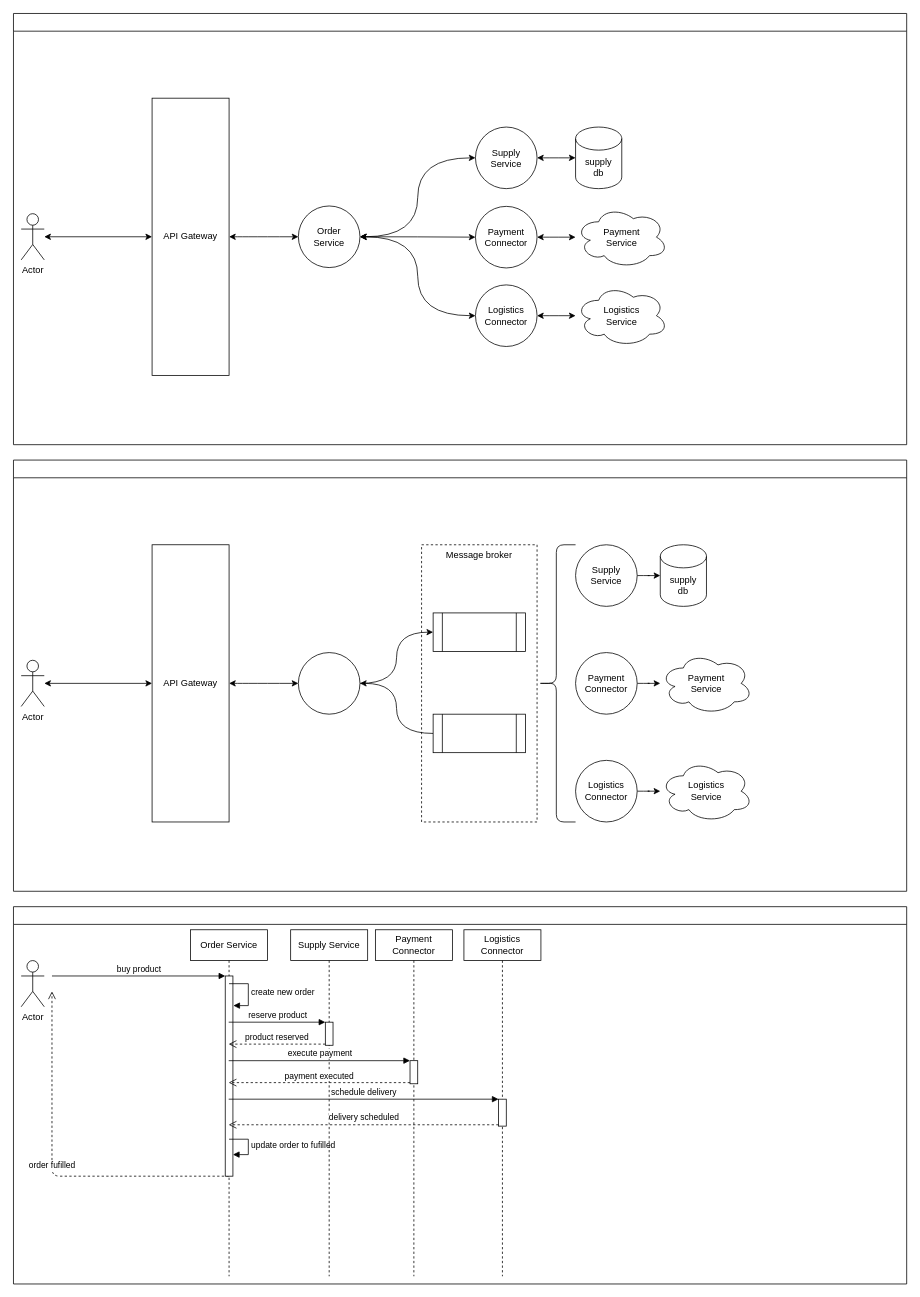
This 920x1297 diagram has some shape labels left out. The shapes that lost their labels are listed below. From the top down, each one's box as (x1, y1, x2, y2) in pixels, then its label:
(13, 13, 907, 445): Simple marketplace backend
(432, 612, 526, 651): Orchestrator Command Channel
(298, 652, 360, 714): Order Orchestrator
(13, 459, 907, 891): Orchestrated marketplace backend
(432, 713, 526, 753): Orchestrator Reply Channel
(13, 906, 907, 1284): Order flow happy path
